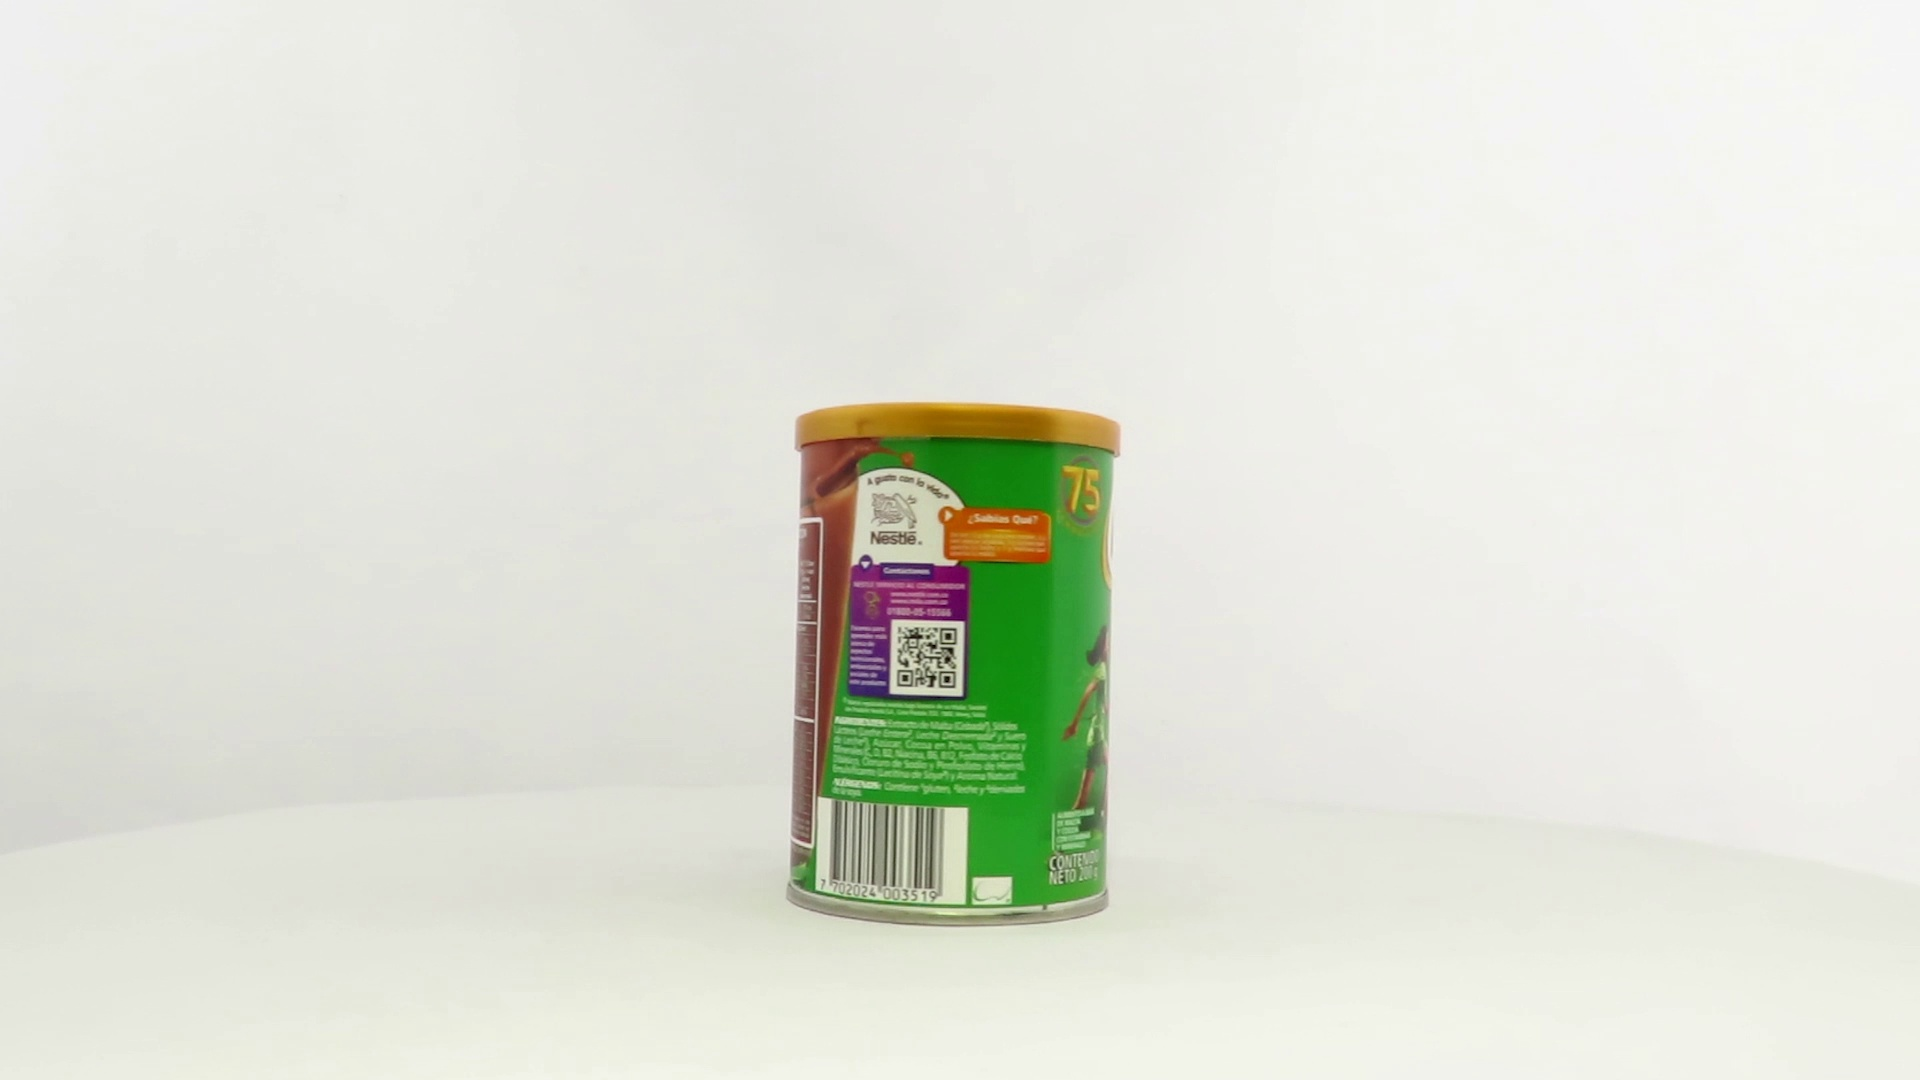COL0170203LAT20000: (781, 397, 1127, 934)
